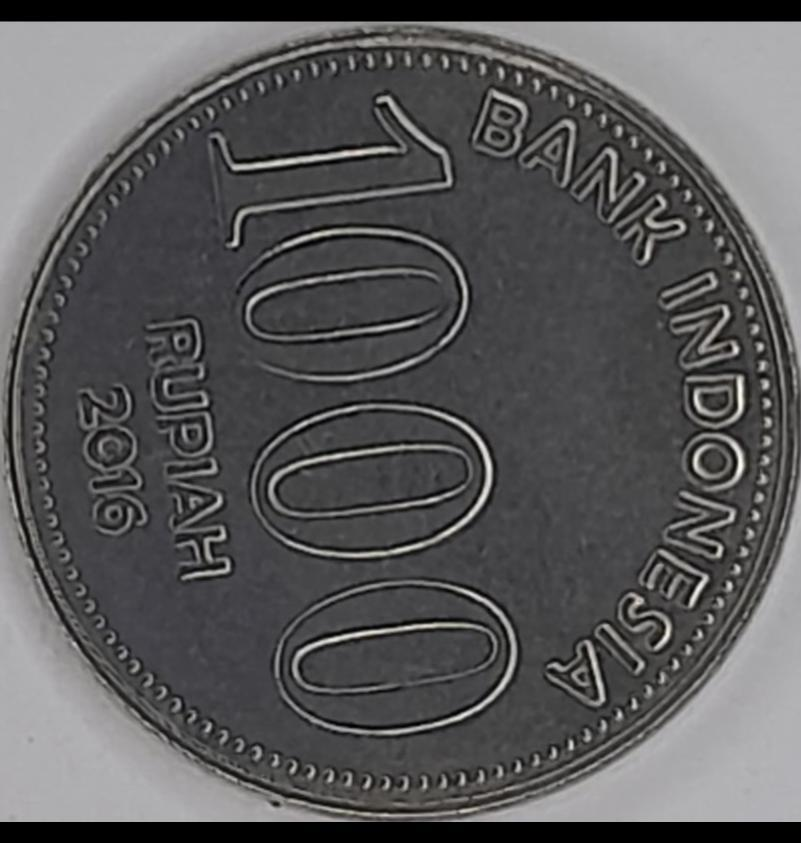coin_1000_e2016: (14, 17, 790, 843)
